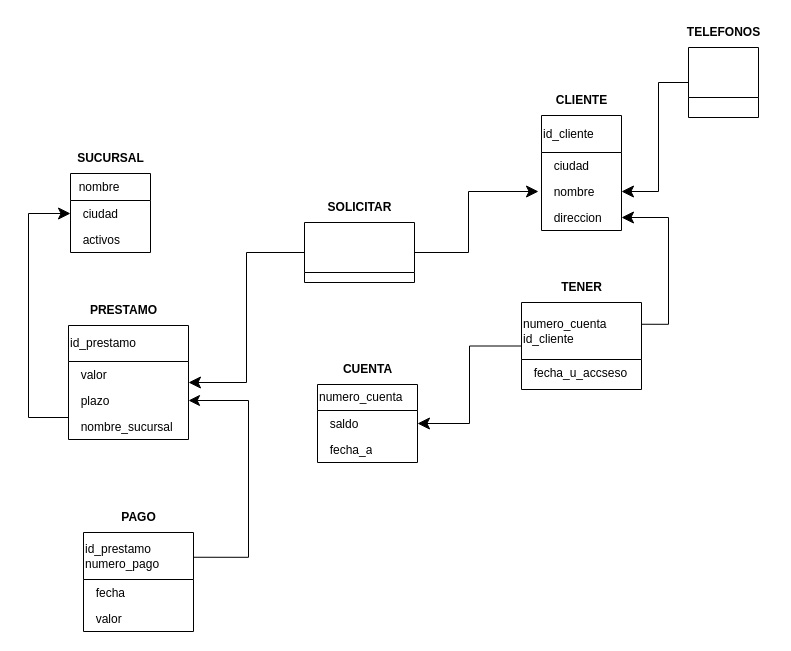
This 791x651 diagram has some shape labels left out. Each missing label, with the centre of its shape:
id_cliente telefono: (x=723, y=82)
numero_prestamo id_cliente: (x=359, y=252)
